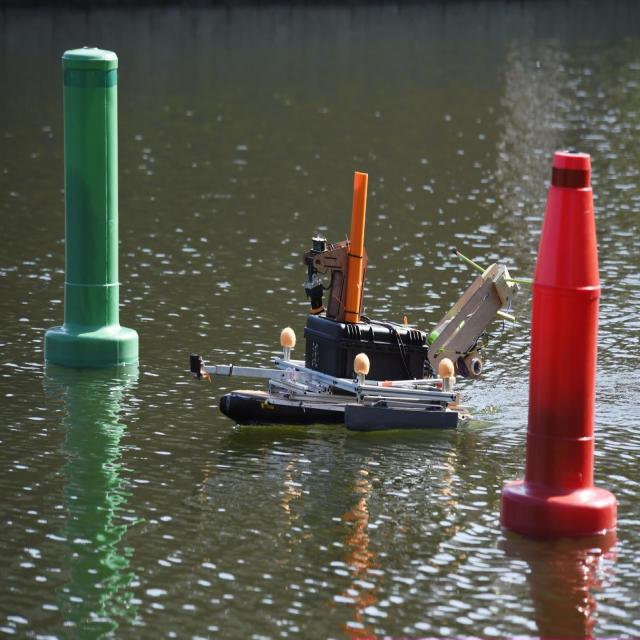green-column-buoy: (50, 47, 138, 376)
red-column-buoy: (500, 128, 618, 536)
